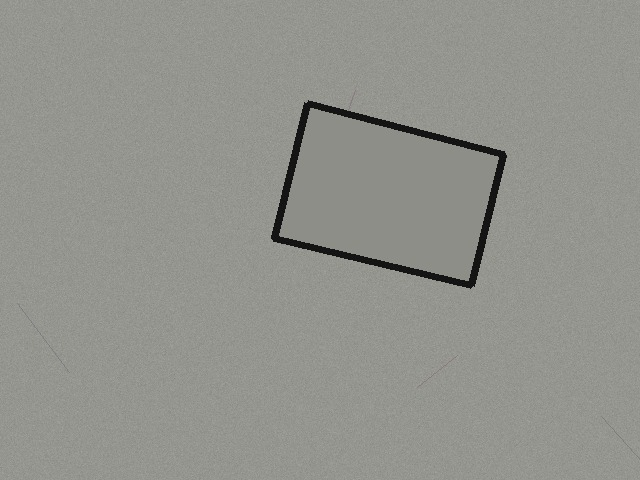parking_area: (274, 103, 503, 285)
